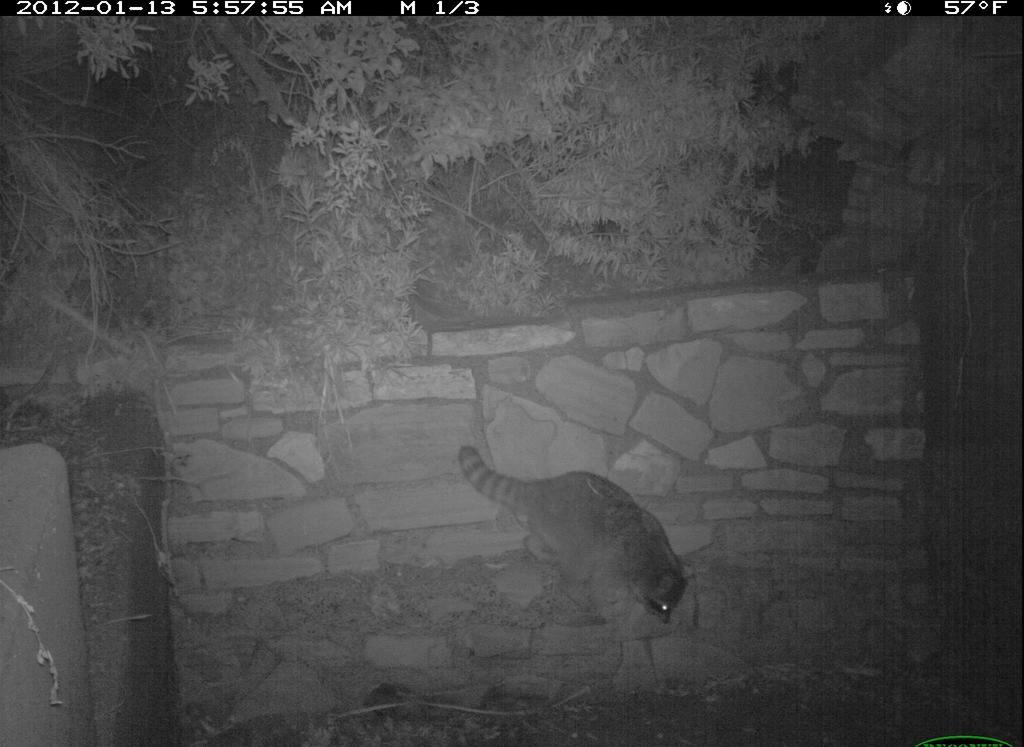raccoon: (451, 437, 690, 635)
